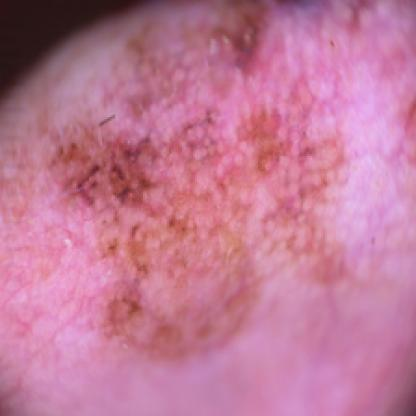Skin_Cancer-Malignant: (74, 117, 342, 358)
